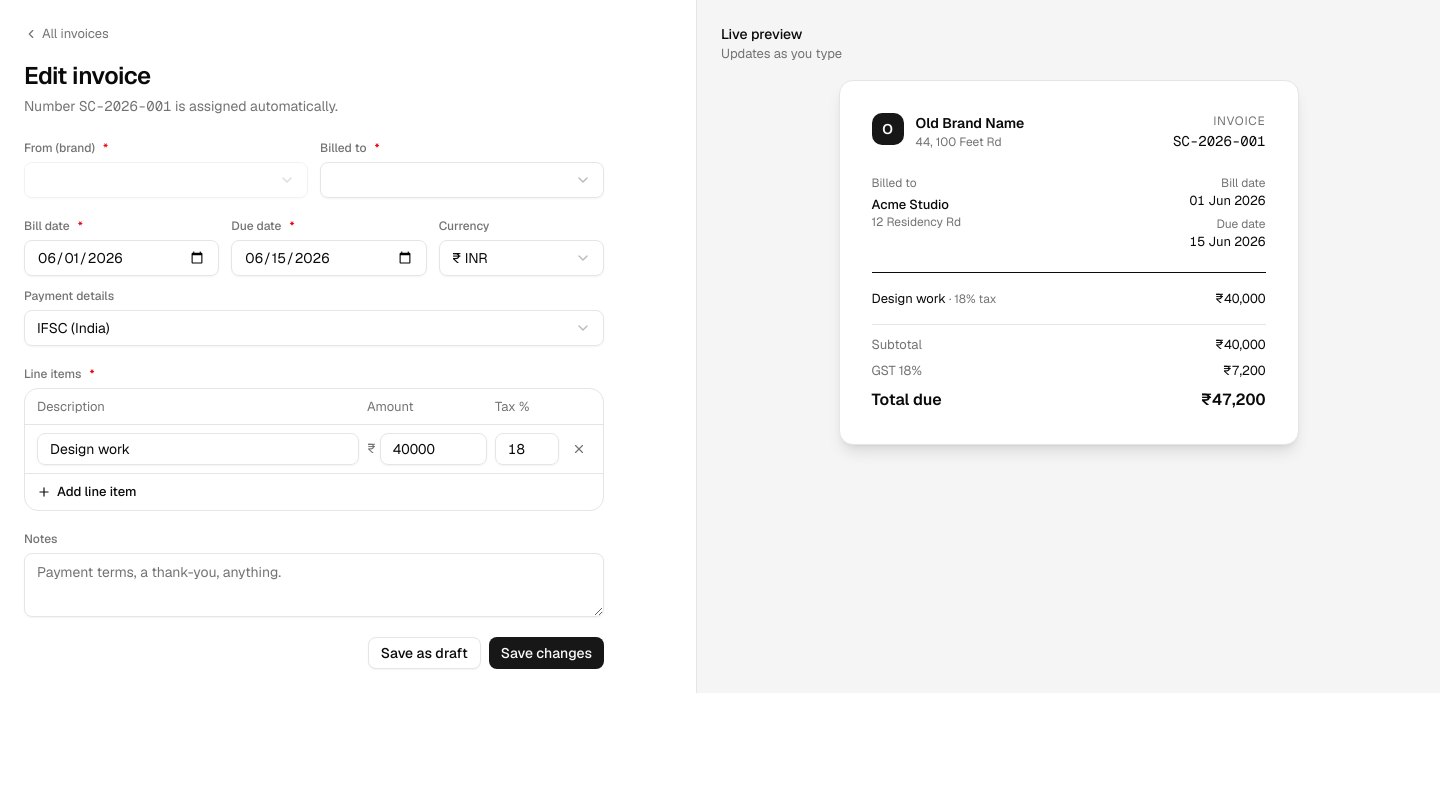
Test: InvoiceForm — payment method (IFSC / ACH) › lets a draft switch between IFSC and ACH
The width and height of the screenshot is (1440, 810).
Click the dropdown labelled "IFSC (India)" at coordinates (73, 328), box left=24, top=310, right=604, bottom=346
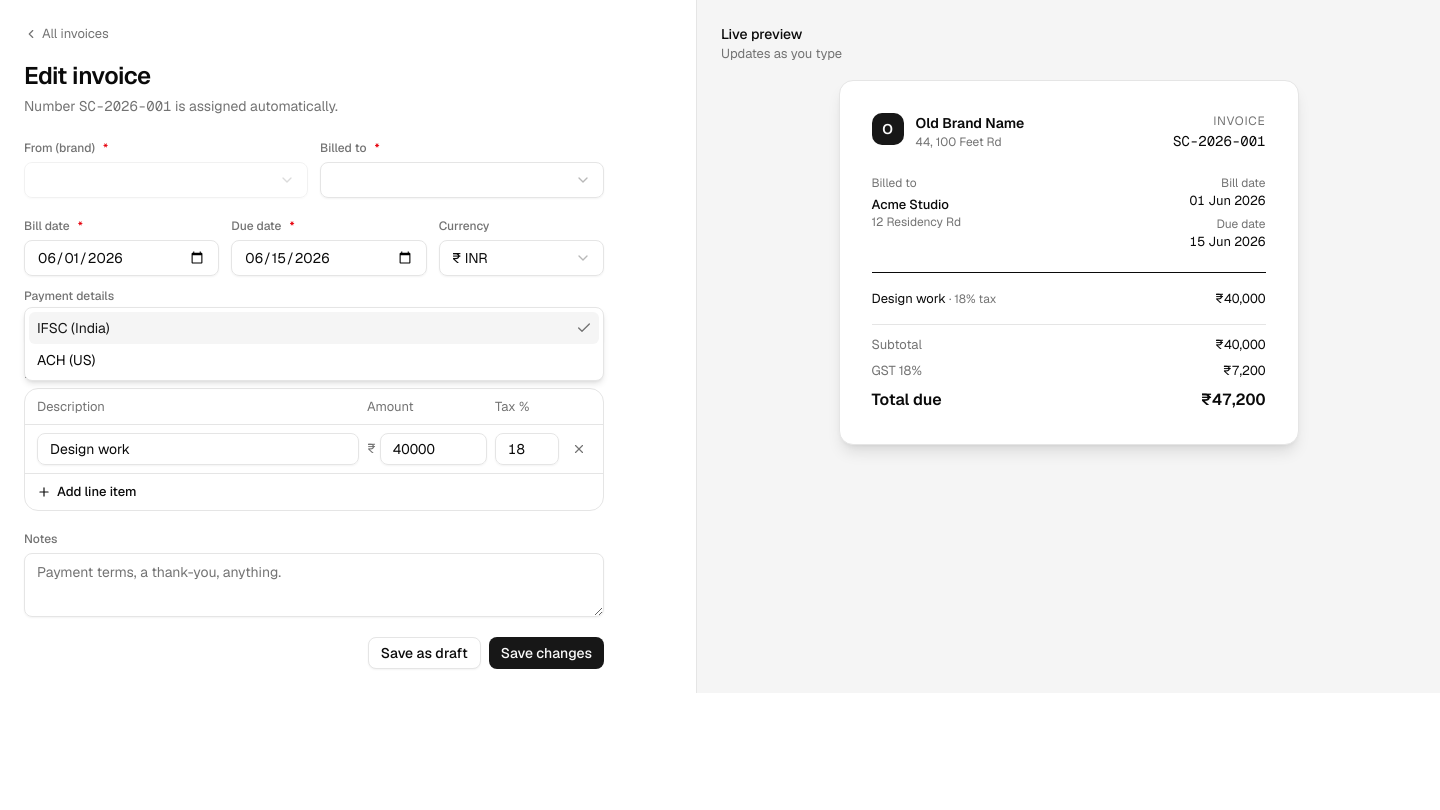
Click the option "ACH (US)" at coordinates (66, 360), box left=37, top=351, right=95, bottom=369
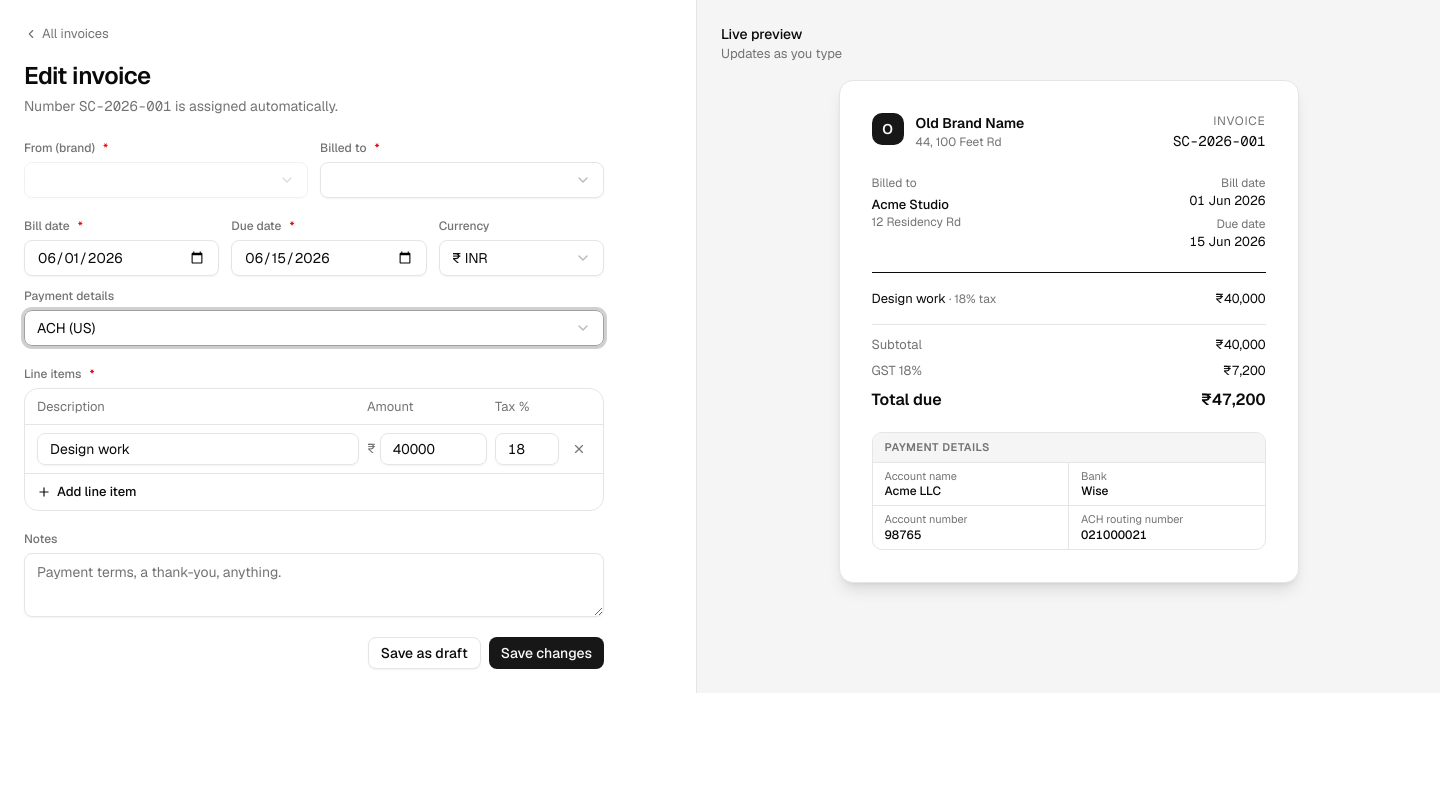
Expected: the dropdown labelled "ACH (US)" is shown, left=24, top=310, right=604, bottom=346
